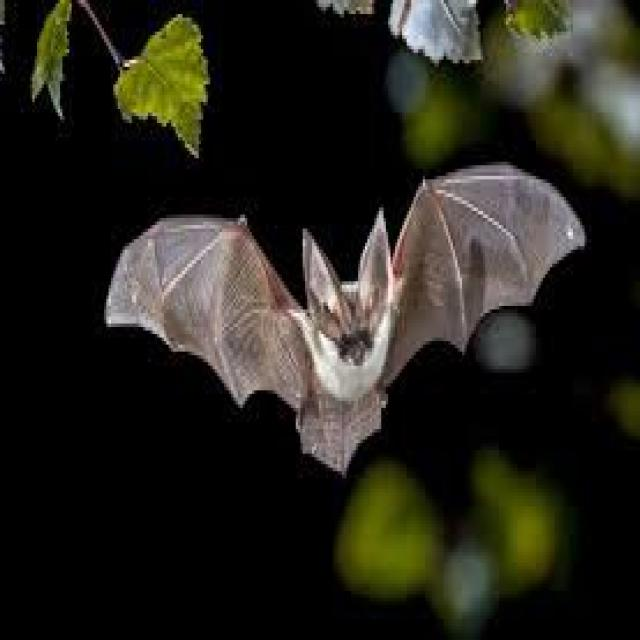Bat: (112, 157, 584, 491)
